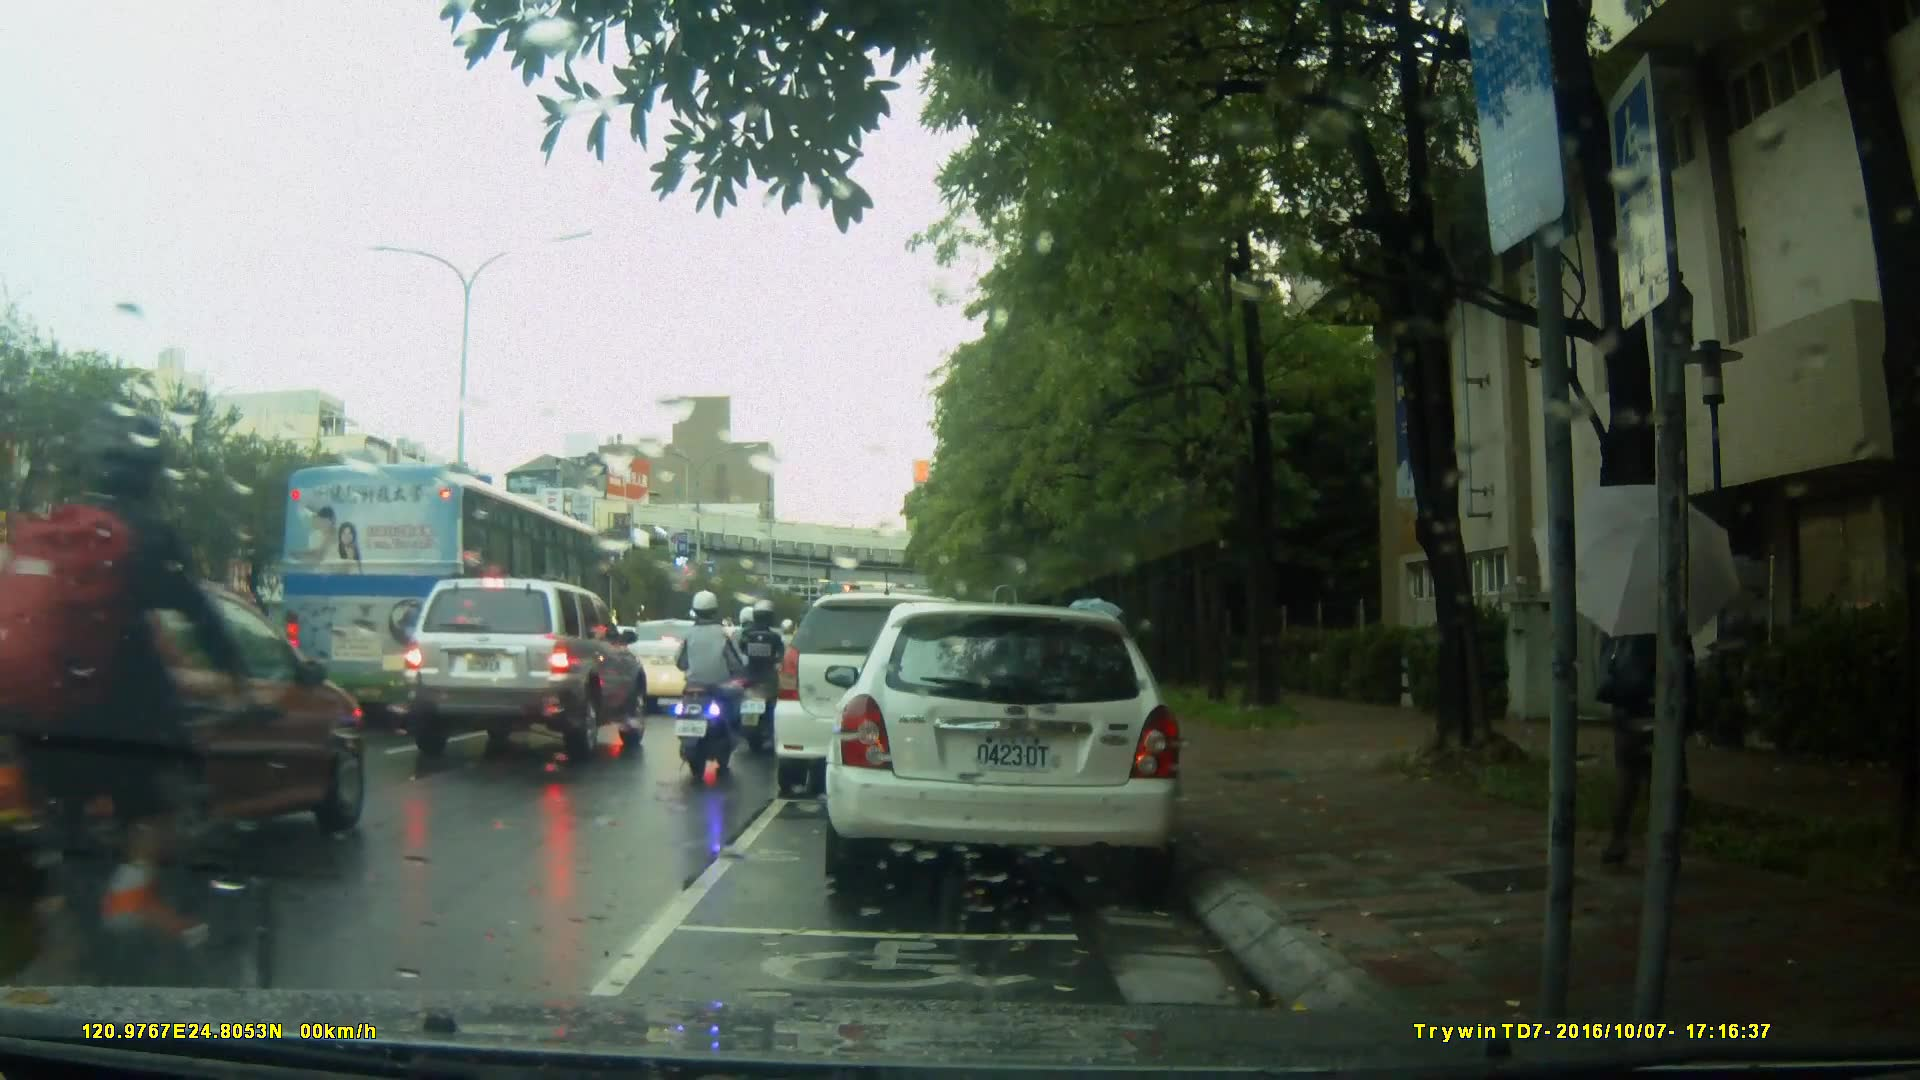pedestrian: (1610, 522, 1743, 892)
rider: (1, 396, 286, 1059), (669, 586, 744, 782), (733, 603, 792, 755), (725, 601, 775, 724)
vehicle: (1, 577, 379, 890), (835, 594, 1194, 898), (279, 464, 612, 740), (776, 590, 1026, 784), (396, 575, 652, 757)
